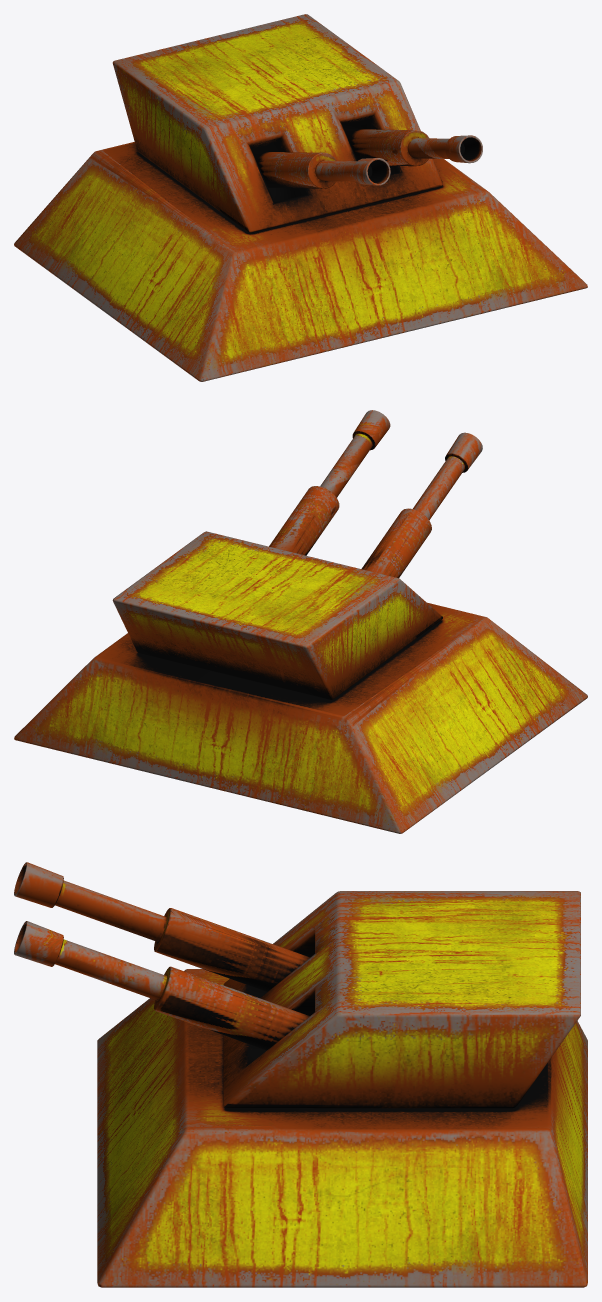
File: TwinCannonGROUND.fbx
3 renders of one model, top to bottom at view 1: azimuth 30°, elevation 25°; view 2: azimuth 150°, elevation 25°; view 3: azimuth 270°, elevation 25°, orthographic. The views are drawn at different scales.
Visible parts, largest first — view 1: Base, Turret, pCylinder1, pasted__pCylinder1; view 2: Base, Turret, pasted__pCylinder1, pCylinder1; view 3: Base, Turret, pCylinder1, pasted__pCylinder1.
Part boxes in pixels (x1=…): Base: x1=14, y1=142, x2=587, y2=381; Turret: x1=112, y1=14, x2=442, y2=232; pCylinder1: x1=253, y1=151, x2=390, y2=188; pasted__pCylinder1: x1=345, y1=129, x2=482, y2=166; Base: x1=14, y1=602, x2=587, y2=833; Turret: x1=112, y1=531, x2=442, y2=699; pasted__pCylinder1: x1=269, y1=410, x2=390, y2=555; pCylinder1: x1=361, y1=432, x2=482, y2=578; Base: x1=97, y1=969, x2=587, y2=1287; Turret: x1=223, y1=891, x2=580, y2=1108; pCylinder1: x1=14, y1=862, x2=309, y2=991; pasted__pCylinder1: x1=14, y1=921, x2=309, y2=1050.
Bounding box in the file's own units: 198 × 102 × 194.
